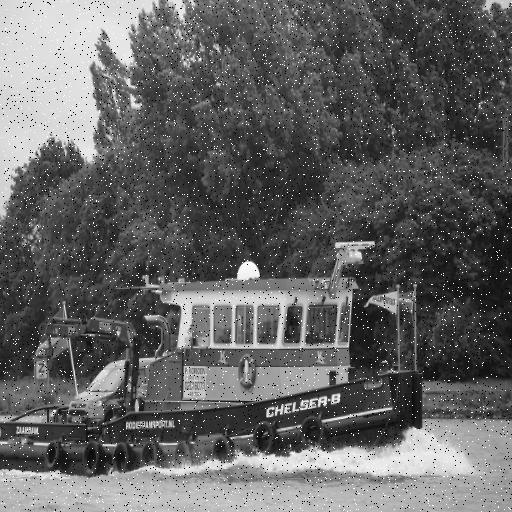tugboat: (1, 237, 428, 488)
